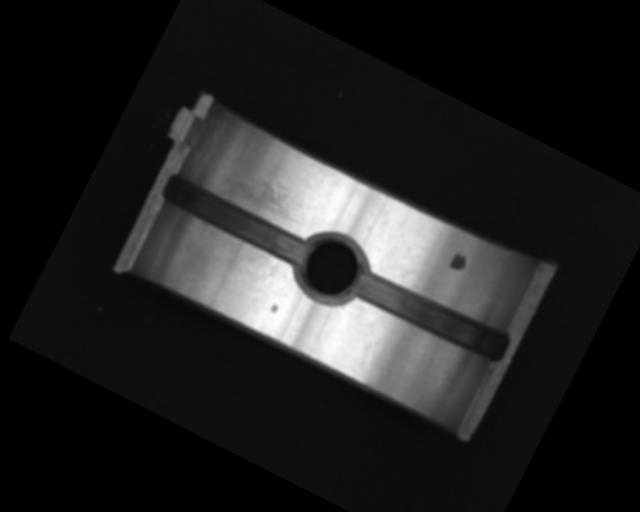blot: (447, 250, 470, 275)
bruise: (268, 302, 279, 315)
gap: (347, 261, 511, 367), (158, 171, 314, 270)
hole: (286, 222, 373, 312)
nick: (356, 308, 394, 363)
scratch: (214, 157, 316, 232)
